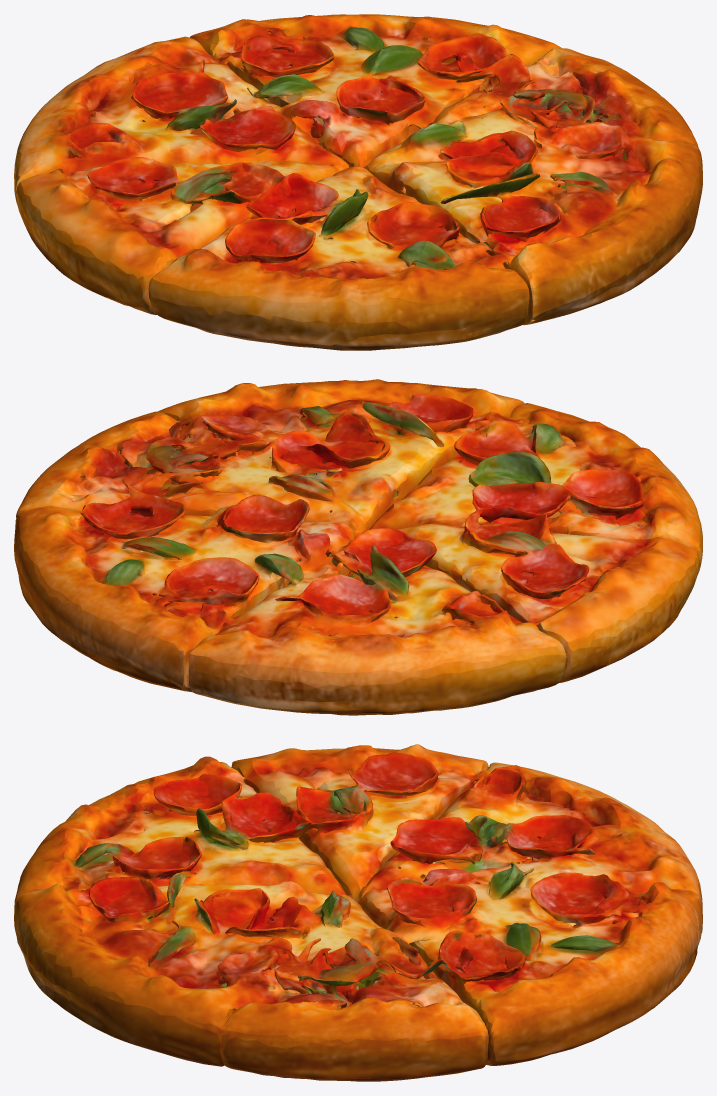
The picture shows the model from 3 angles, top to bottom: view 1: azimuth 30°, elevation 25°; view 2: azimuth 150°, elevation 25°; view 3: azimuth 270°, elevation 25°; orthographic projection.
Visible parts, largest first — view 1: geometry_0; view 2: geometry_0; view 3: geometry_0.
Boxes of the visible parts, x1=… form: geometry_0: x1=14, y1=14, x2=702, y2=350; geometry_0: x1=14, y1=379, x2=702, y2=715; geometry_0: x1=14, y1=744, x2=702, y2=1081.
Bounding box in the file's own units: 0.3 × 0.0489 × 0.3003.
Materials: 1 (1 with a texture image).
